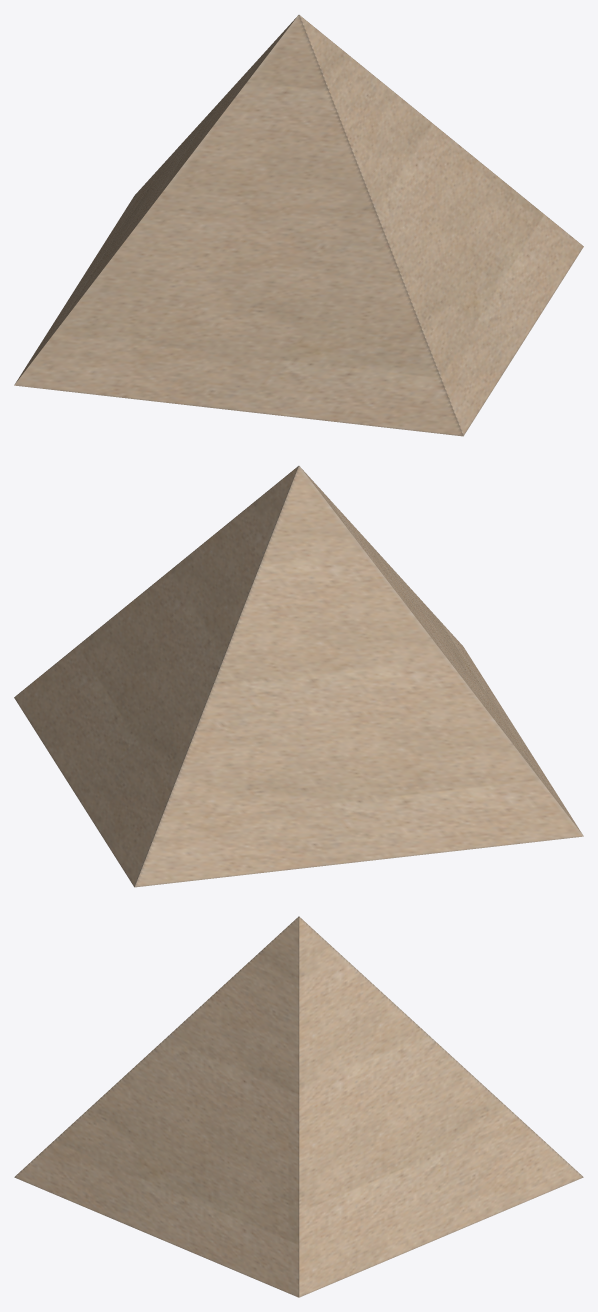
Rendered from piramide.fbx.
3 renders of one model, top to bottom at view 1: azimuth 30°, elevation 25°; view 2: azimuth 150°, elevation 25°; view 3: azimuth 270°, elevation 25°, orthographic. The views are drawn at different scales.
Parts seen in each view (by area): view 1: Piramide1; view 2: Piramide1; view 3: Piramide1.
Boxes of the visible parts, <box> form: Piramide1: <box>14,15,583,436</box>; Piramide1: <box>14,466,583,887</box>; Piramide1: <box>14,916,583,1297</box>.
Bounding box in the file's own units: 736 × 372 × 736.
1 material, 1 textured.
